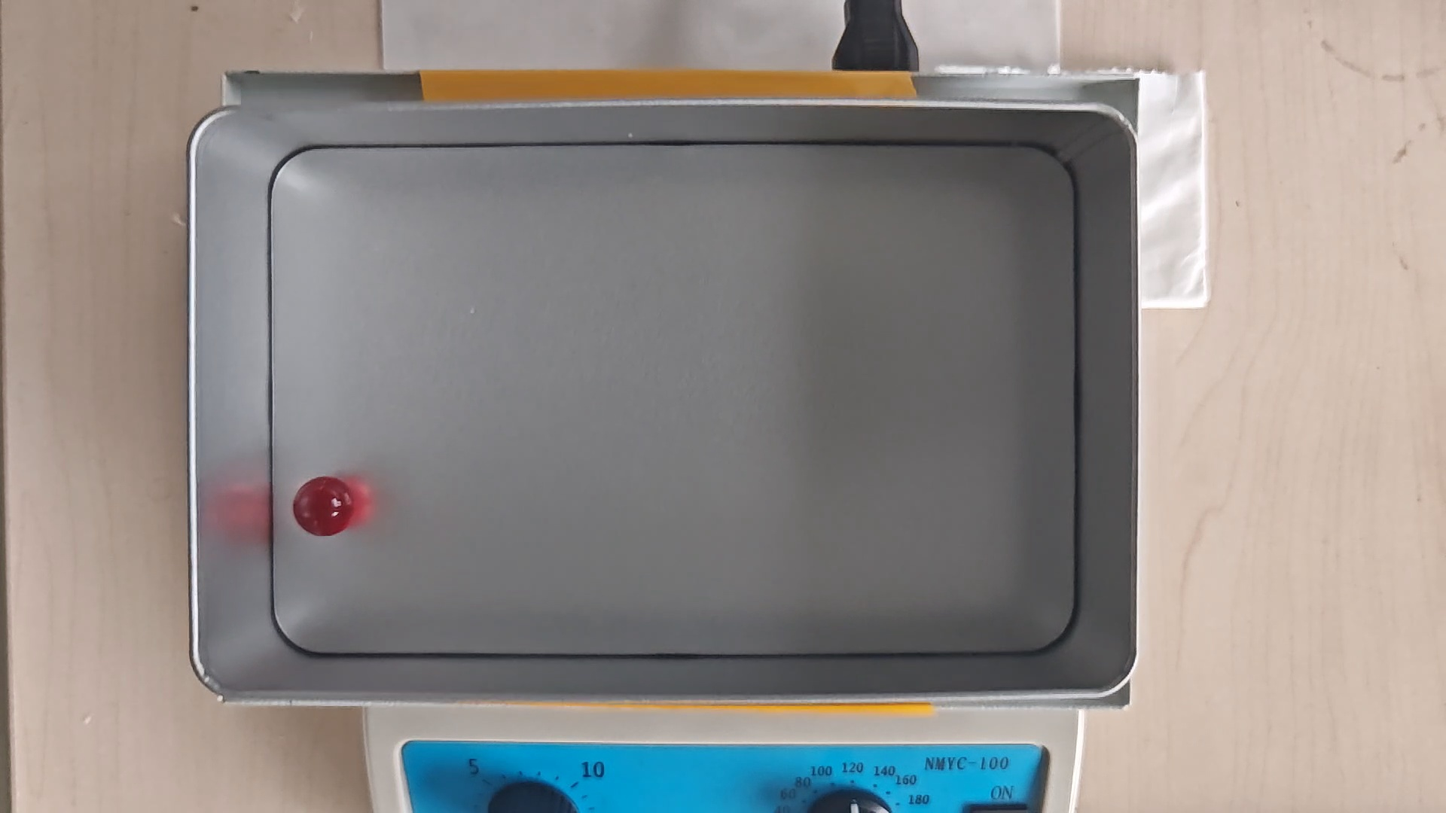ball: (291, 477, 354, 538)
container: (270, 144, 1075, 651)
